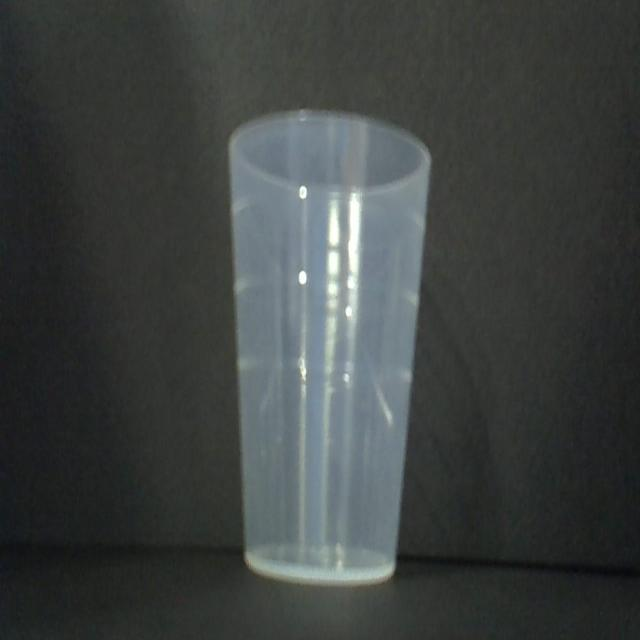cup: (227, 108, 429, 586)
